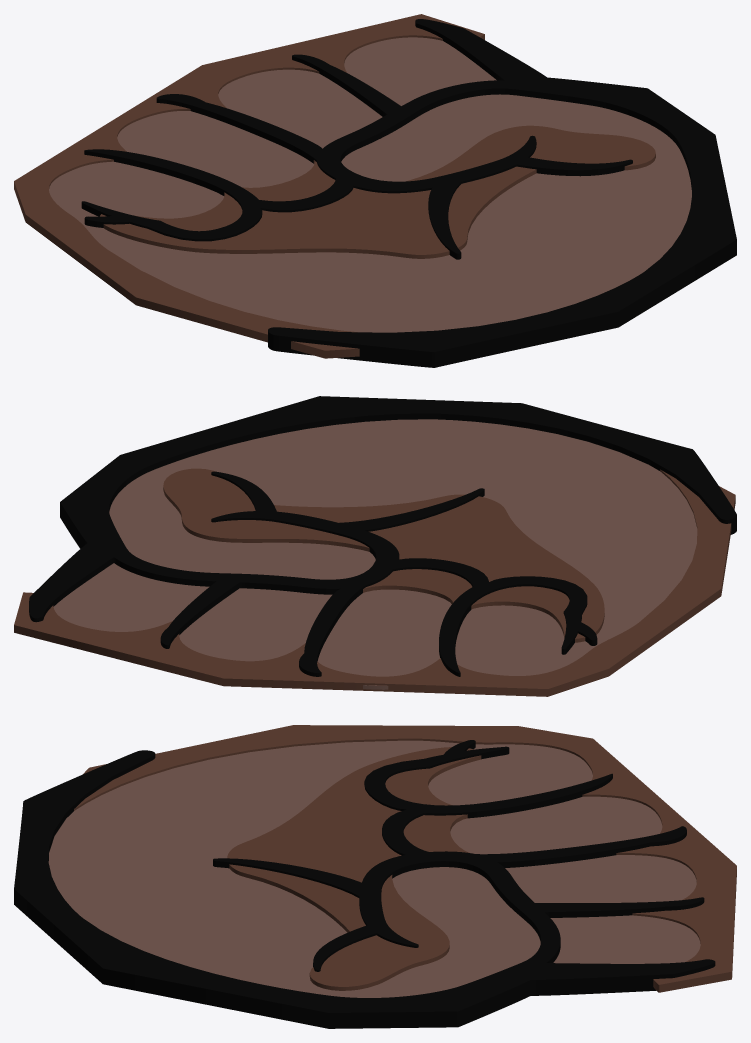
File: emoji_u270a_1f3ff.glb
3 views of the same model, one above another, from view 1: azimuth 30°, elevation 25°; view 2: azimuth 150°, elevation 25°; view 3: azimuth 270°, elevation 25° (orthographic). The views are drawn at different scales.
Visible parts, largest first — view 1: emoji_u270a_1f3ff; view 2: emoji_u270a_1f3ff; view 3: emoji_u270a_1f3ff.
Part boxes in pixels (left/top/right/bottom): emoji_u270a_1f3ff: left=14, top=14, right=736, bottom=367; emoji_u270a_1f3ff: left=14, top=396, right=736, bottom=696; emoji_u270a_1f3ff: left=14, top=725, right=736, bottom=1028.
Bounding box in the file's own units: 0.0317 × 0.0008 × 0.0332.
